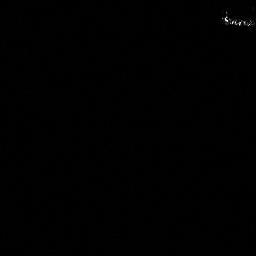ship: (219, 10, 256, 28)
